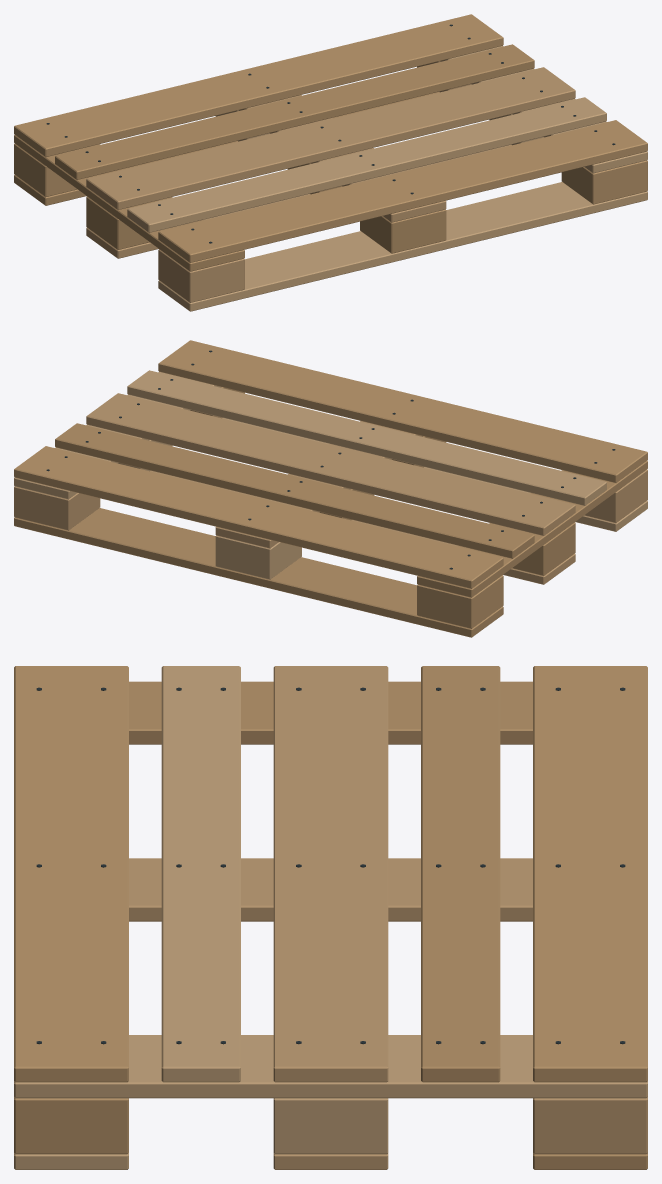
The model's file is 02_pallet.glb.
The picture shows the model from 3 angles, top to bottom: view 1: azimuth 30°, elevation 25°; view 2: azimuth 150°, elevation 25°; view 3: azimuth 270°, elevation 25°; orthographic projection. The views are drawn at different scales.
Parts seen in each view (by area): view 1: Pallet; view 2: Pallet; view 3: Pallet.
Part boxes in pixels (x1,y1,x2,y2): Pallet: [14, 14, 647, 311]; Pallet: [14, 340, 647, 637]; Pallet: [14, 666, 647, 1169].
Bounding box in the file's own units: 1.2 × 0.145 × 0.8.
